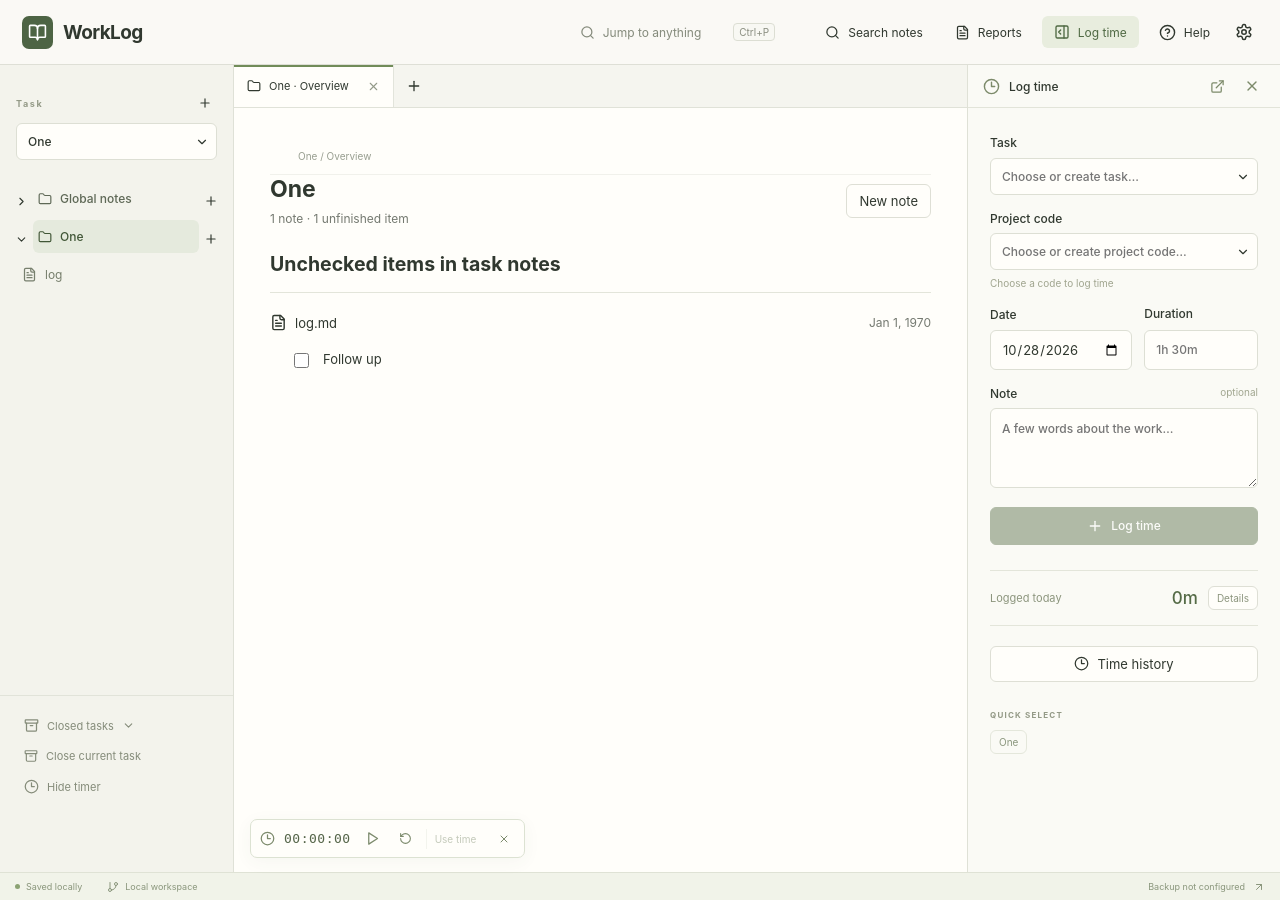
Scenario: offers note creation without an overview button when no notes are open
Click the 1st button titled "Open One overview · Drop here to move to One". click: x=116, y=236
box: [33,220,199,253]
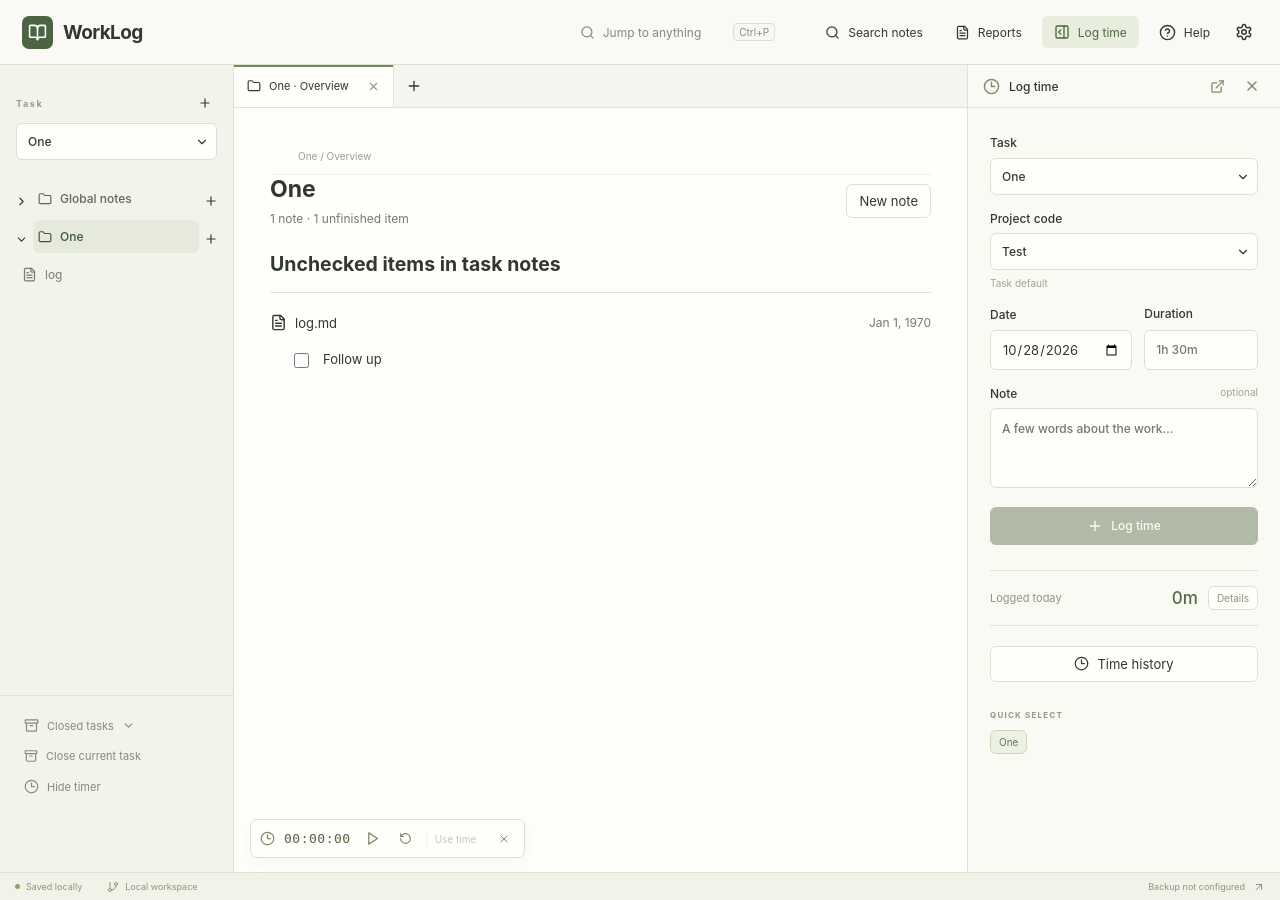
Click the button titled "Close tab". click: x=373, y=86
box: [362,74,385,98]
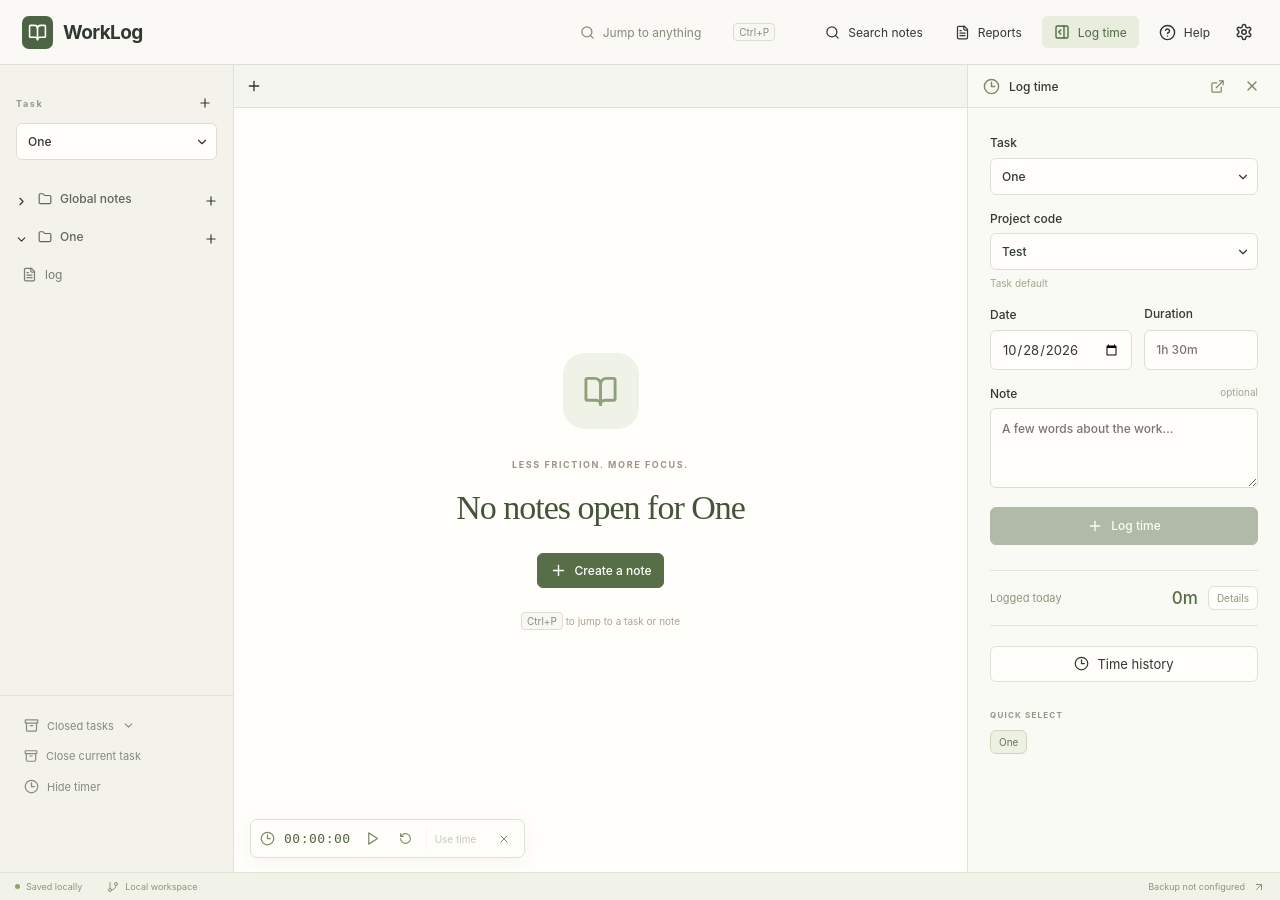
expect the heading "No notes open for One" is shown: met, box [456,489,745,527]
expect the button "Create a note" is shown: met
Click the button "Create a note". click: x=600, y=570
box: [536,553,664,588]
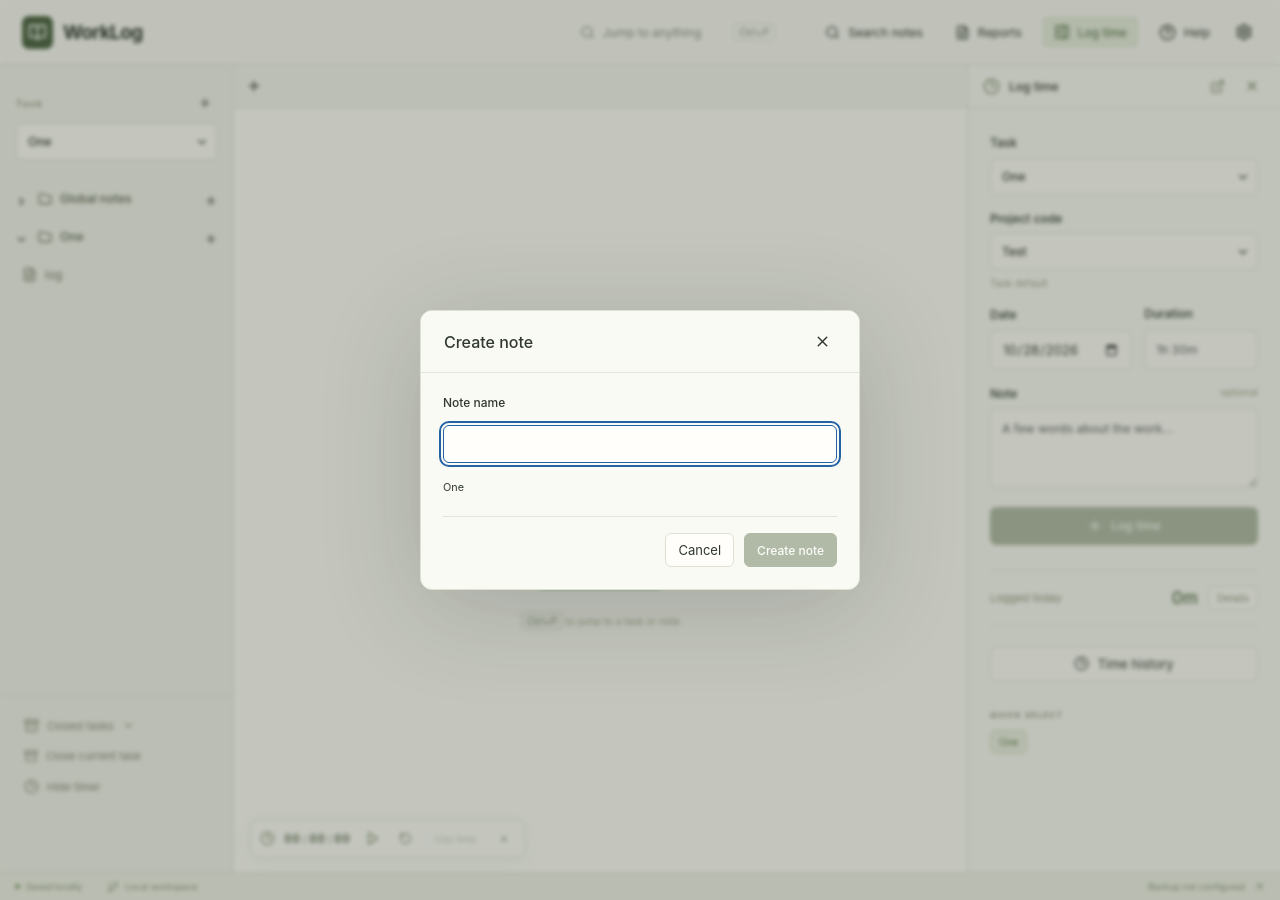
expect the dialog "Create note" is shown: met, box [420,310,860,590]
